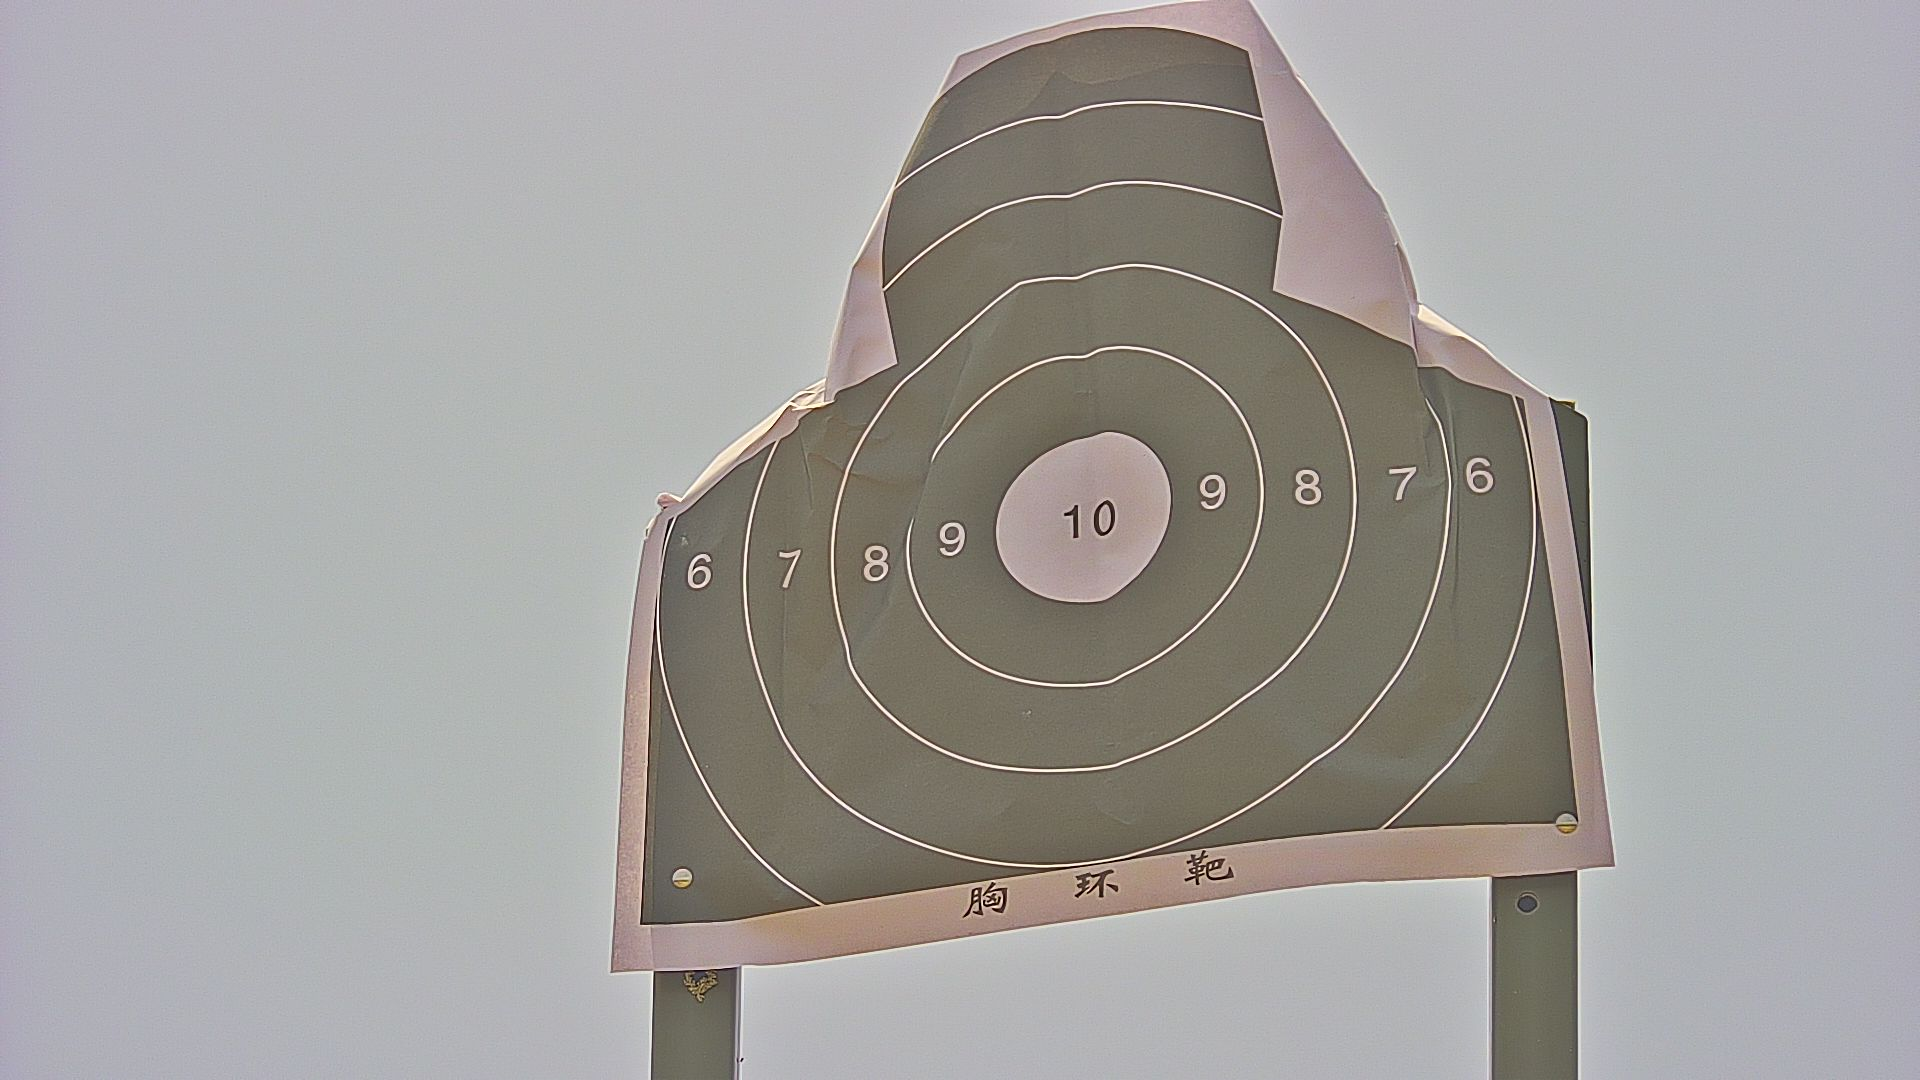kernel: (1087, 520, 1088, 525)
target: (644, 28, 1572, 923)
ten: (996, 429, 1172, 605)
